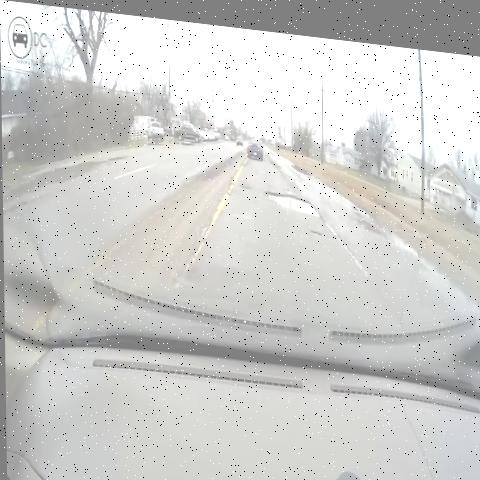pothole: (261, 170, 324, 216), (219, 163, 253, 204), (302, 218, 329, 234)
